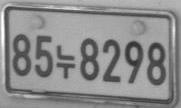2: (102, 38, 121, 83)
5: (34, 35, 53, 77)
8: (79, 37, 100, 81), (146, 41, 166, 86), (11, 33, 31, 76)
9: (123, 40, 144, 84)
누: (55, 44, 76, 79)
